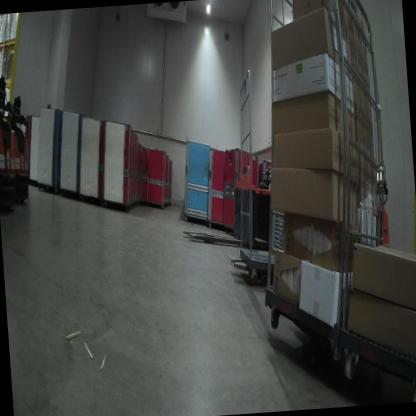pallet_truck: (168, 156, 304, 259), (0, 85, 42, 219), (354, 171, 396, 265), (0, 69, 25, 225)
